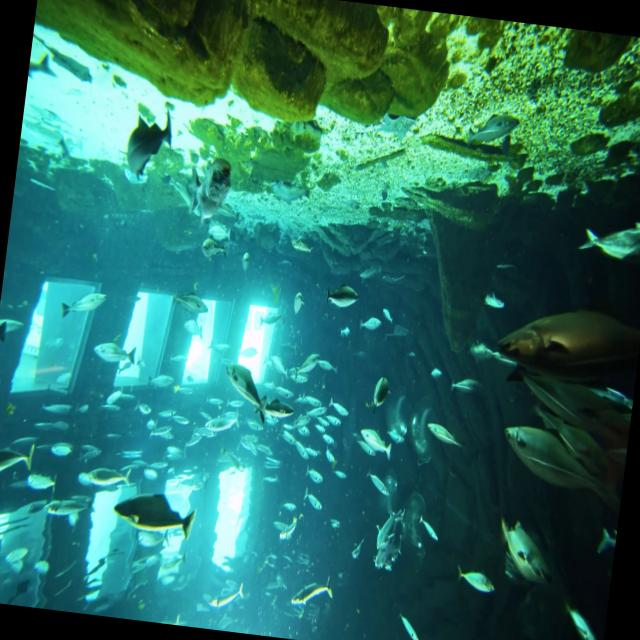fish: (494, 301, 640, 387), (494, 422, 628, 513), (110, 489, 200, 540), (123, 106, 173, 186), (221, 362, 274, 422), (61, 288, 108, 322), (92, 338, 138, 368), (356, 428, 396, 462), (456, 568, 498, 597), (324, 282, 359, 312)
